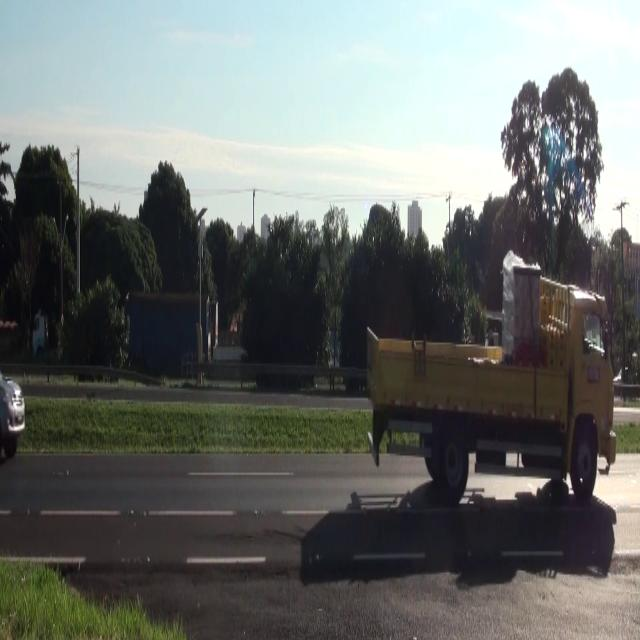-axle: (428, 412, 473, 504), (570, 424, 598, 501)
